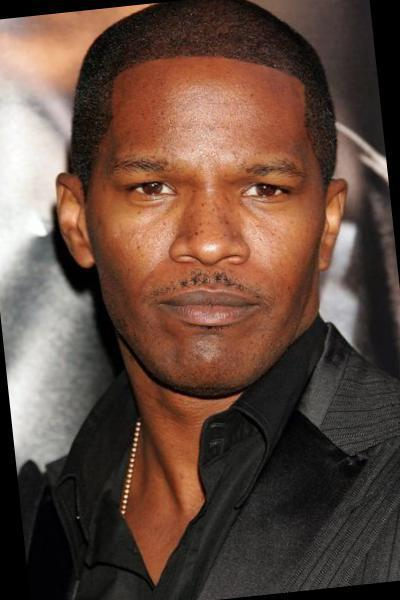Sober: (103, 42, 312, 386)
